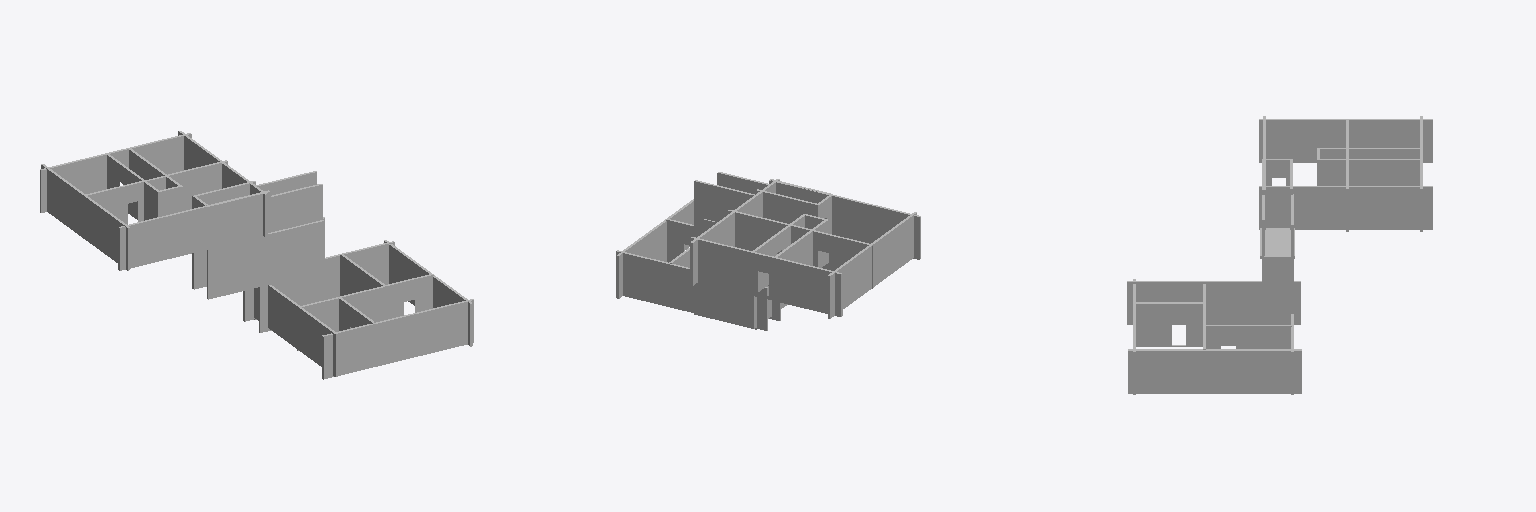
Rendered from ritueel_map.obj.
The picture shows the model from 3 angles: view 1: azimuth 30°, elevation 25°; view 2: azimuth 150°, elevation 25°; view 3: azimuth 270°, elevation 25°; orthographic projection.
Parts seen in each view (by area): view 1: Cube.018_Cube.033, Cube.030_Cube.017, Cube.016_Cube.031, Cube.004_Cube.005, Cube.003_Cube.004, Cube.002_Cube.003, Cube.019_Cube.034, Cube.022_Cube.037, Cube.020_Cube.035, Cube.026_Cube.040, Cube.001_Cube.002, Cube.027_Cube.041 (+9 smaller); view 2: Cube.002_Cube.003, Cube.022_Cube.037, Cube.003_Cube.004, Cube.004_Cube.005, Cube.031_Cube.018, Cube.020_Cube.035, Cube.001_Cube.002, Cube.007_Cube.008, Cube.013_Cube.014, Cube.014_Cube.015, Cube.027_Cube.041, Cube.030_Cube.017 (+2 smaller); view 3: Cube.020_Cube.035, Cube.001_Cube.002, Cube.003_Cube.004, Cube.019_Cube.034, Cube.028_Cube.042, Cube.025_Cube.039, Cube.006_Cube.007, Cube.033_Cube.020, Cube.008_Cube.009, Cube.032_Cube.019, Cube.011_Cube.012, Cube.015_Cube.016.
Boxes of the visible parts, x1,y1,x2,y2 form: Cube.018_Cube.033: [322, 299, 473, 379]; Cube.030_Cube.017: [259, 184, 322, 332]; Cube.016_Cube.031: [207, 191, 270, 299]; Cube.004_Cube.005: [118, 190, 268, 270]; Cube.003_Cube.004: [41, 164, 129, 270]; Cube.002_Cube.003: [40, 133, 191, 212]; Cube.019_Cube.034: [254, 285, 337, 376]; Cube.022_Cube.037: [243, 241, 394, 321]; Cube.020_Cube.035: [384, 240, 472, 346]; Cube.026_Cube.040: [297, 286, 385, 350]; Cube.001_Cube.002: [178, 131, 267, 237]; Cube.027_Cube.041: [386, 274, 433, 319]; Cube.002_Cube.003: [690, 237, 842, 316]; Cube.022_Cube.037: [616, 250, 767, 330]; Cube.003_Cube.004: [828, 212, 916, 318]; Cube.004_Cube.005: [769, 180, 920, 259]; Cube.031_Cube.018: [694, 180, 756, 329]; Cube.020_Cube.035: [616, 199, 693, 298]; Cube.001_Cube.002: [690, 179, 779, 285]; Cube.007_Cube.008: [728, 210, 790, 253]; Cube.013_Cube.014: [811, 230, 873, 288]; Cube.014_Cube.015: [756, 189, 818, 285]; Cube.027_Cube.041: [666, 219, 693, 262]; Cube.030_Cube.017: [717, 172, 780, 320]; Cube.020_Cube.035: [1128, 349, 1301, 393]; Cube.001_Cube.002: [1259, 186, 1432, 229]; Cube.003_Cube.004: [1259, 119, 1432, 162]; Cube.019_Cube.034: [1127, 281, 1300, 324]; Cube.028_Cube.042: [1135, 302, 1204, 346]; Cube.025_Cube.039: [1203, 325, 1291, 348]; Cube.006_Cube.007: [1349, 159, 1419, 185]; Cube.033_Cube.020: [1264, 256, 1290, 313]; Cube.008_Cube.009: [1349, 148, 1419, 185]; Cube.032_Cube.019: [1260, 228, 1294, 258]; Cube.011_Cube.012: [1320, 159, 1345, 185]; Cube.015_Cube.016: [1266, 159, 1291, 185].
Size of the model in its own units: 42.3 by 19.46 by 38.64.